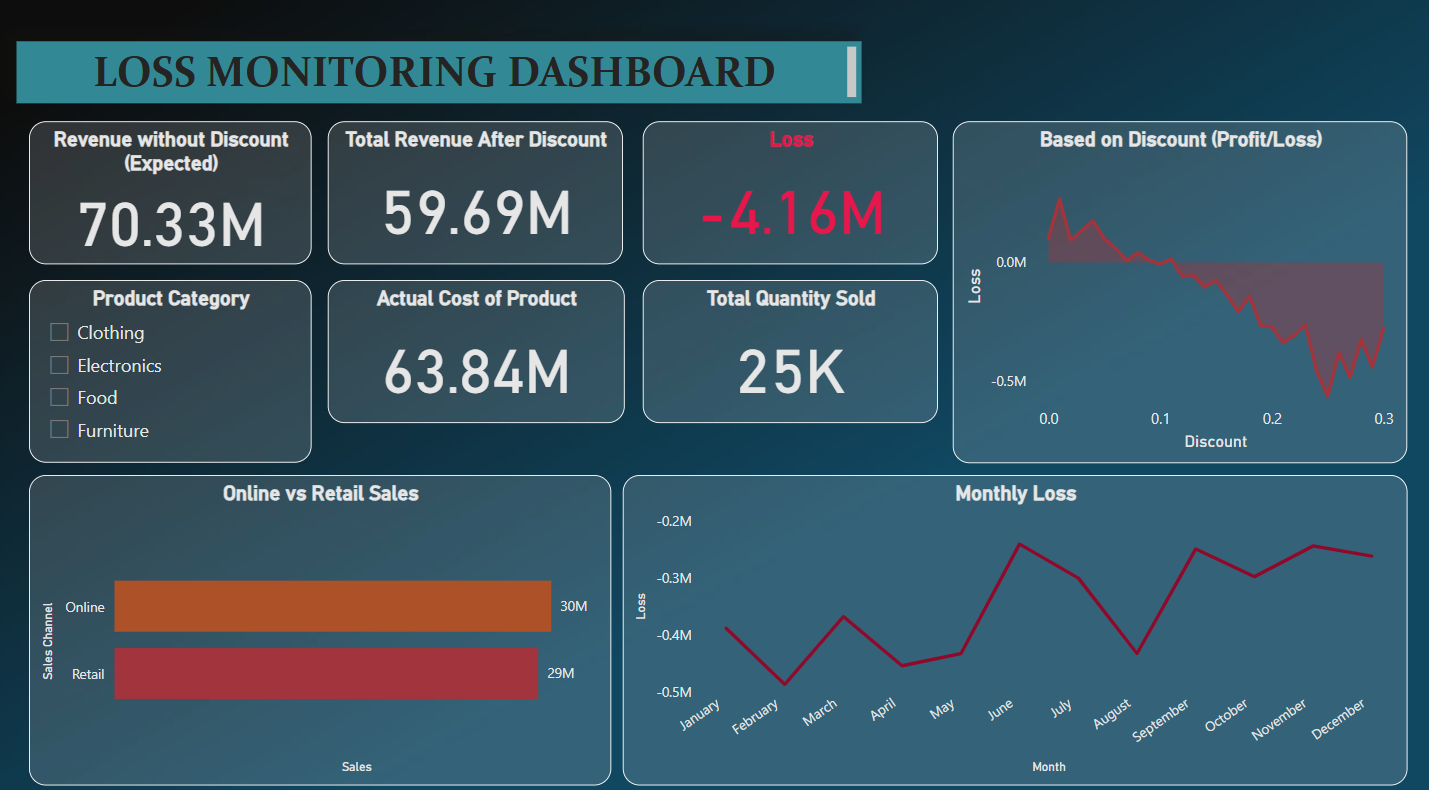

Layout of this report page (visuals, bound fields, positions):
{"tool":"powerbi","page":{"name":"Page 1","canvas":[1280,720],"ordinal":0},"visuals":[{"type":"card","title":"Total Revenue After Discount","fields":{"Values":["sales_data.M_Total_Sales"]},"box":[296.2,107.5,262.5,127.5],"z":0},{"type":"card","title":"Total Quantity Sold","fields":{"Values":["sales_data.M_Total_quantity_Sold"]},"box":[576.2,248.8,262.5,127.5],"z":1000},{"type":"card","title":"Loss","fields":{"Values":["sales_data.M_Profit"]},"box":[576.2,107.5,262.5,127.5],"z":2000},{"type":"card","title":"Actual Cost of Product","fields":{"Values":["Sum(sales_data.Total_Cost)"]},"box":[296.2,248.8,263.8,127.5],"z":3000},{"type":"slicer","title":"Product Category","fields":{"Values":["sales_data.Product_Category"]},"box":[31.2,248.8,251.2,162.5],"z":4000},{"type":"stackedAreaChart","title":"Based on Discount (Profit/Loss)","fields":{"Category":["sales_data.Discount"],"Y":["sales_data.M_Profit"]},"box":[852.5,107.5,403.8,303.8],"z":5000},{"type":"barChart","title":"Online vs Retail Sales","fields":{"Category":["sales_data.Sales_Channel"],"Y":["sales_data.M_Total_Sales"]},"box":[31.2,422.5,517.5,276.2],"z":6000},{"type":"lineChart","title":"Monthly Loss","fields":{"Y":["sales_data.M_Profit"],"Category":["sales_data.Sale_Date.Variation.Date Hierarchy.Month"]},"box":[558.8,422.5,697.5,276.2],"z":7000},{"type":"textbox","box":[20,36.2,751.2,55],"z":8000},{"type":"card","title":"Revenue without Discount (Expected)","fields":{"Values":["Sum(sales_data.Revenue_Without_Discount)"]},"box":[31.2,107.5,251.2,127.5],"z":9000}]}

Visuals, with their boxes in screenshot pixels (x1, y1, x2, y2), scaled from the page's 1280x720 canvas onto the 1429x790 screenshot:
"Total Revenue After Discount" card: {"left": 331, "top": 118, "right": 624, "bottom": 258}
"Total Quantity Sold" card: {"left": 643, "top": 273, "right": 936, "bottom": 413}
"Loss" card: {"left": 643, "top": 118, "right": 936, "bottom": 258}
"Actual Cost of Product" card: {"left": 331, "top": 273, "right": 625, "bottom": 413}
"Product Category" slicer: {"left": 35, "top": 273, "right": 315, "bottom": 451}
"Based on Discount (Profit/Loss)" stackedAreaChart: {"left": 952, "top": 118, "right": 1403, "bottom": 451}
"Online vs Retail Sales" barChart: {"left": 35, "top": 464, "right": 613, "bottom": 767}
"Monthly Loss" lineChart: {"left": 624, "top": 464, "right": 1403, "bottom": 767}
textbox: {"left": 22, "top": 40, "right": 861, "bottom": 100}
"Revenue without Discount (Expected)" card: {"left": 35, "top": 118, "right": 315, "bottom": 258}
